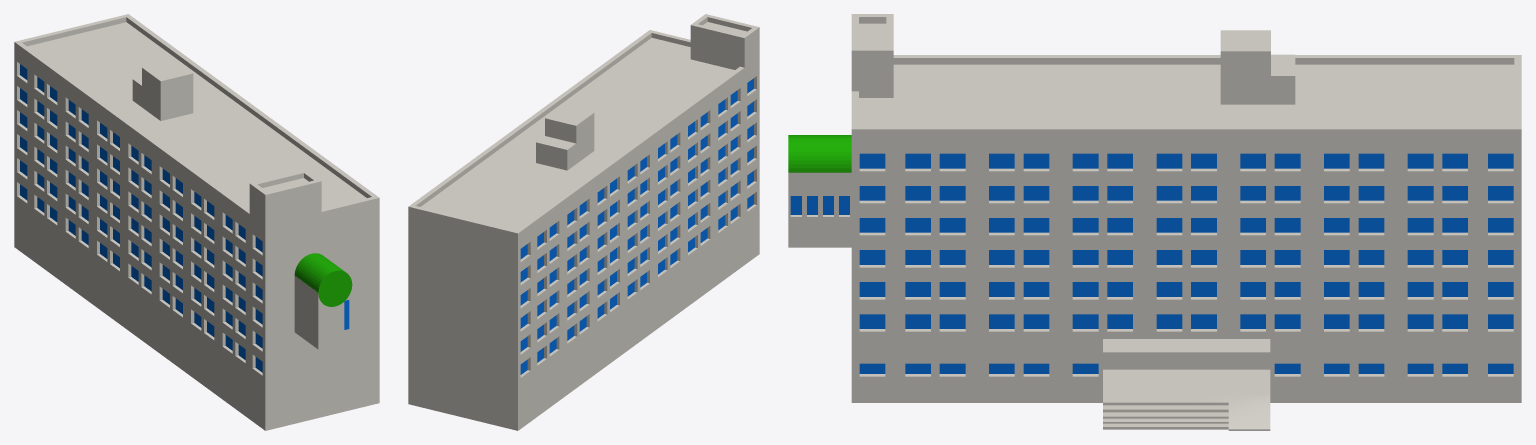
Rendered from 3공학관.fbx.
3 views of the same model, side by side, from view 1: azimuth 30°, elevation 25°; view 2: azimuth 150°, elevation 25°; view 3: azimuth 270°, elevation 25° (orthographic). The views are drawn at different scales.
Visible parts, largest first — view 1: Cube_1, Cube_140, Cube_5, Cube_30, Tube; view 2: Cube_1, Cube_140, Cube_5; view 3: Cube_1, Cube_62, Cube_5, Cube_30, Tube, Cube_63, Cube_64, Cube_126.
Part boxes in pixels (x1,y1,x2,y2): Cube_1: (14, 14, 379, 430); Cube_140: (20, 64, 262, 372); Cube_5: (132, 59, 193, 120); Cube_30: (294, 276, 352, 349); Tube: (294, 253, 352, 306); Cube_1: (408, 14, 759, 430); Cube_140: (520, 78, 753, 374); Cube_5: (536, 105, 594, 170); Cube_1: (851, 14, 1521, 430); Cube_62: (859, 153, 1513, 328); Cube_5: (1220, 30, 1295, 104); Cube_30: (788, 172, 851, 247); Tube: (788, 135, 851, 172); Cube_63: (859, 363, 1098, 373); Cube_64: (1274, 363, 1513, 373); Cube_126: (790, 196, 849, 214).
Bounding box in the file's own units: 330 × 483 × 1002.
